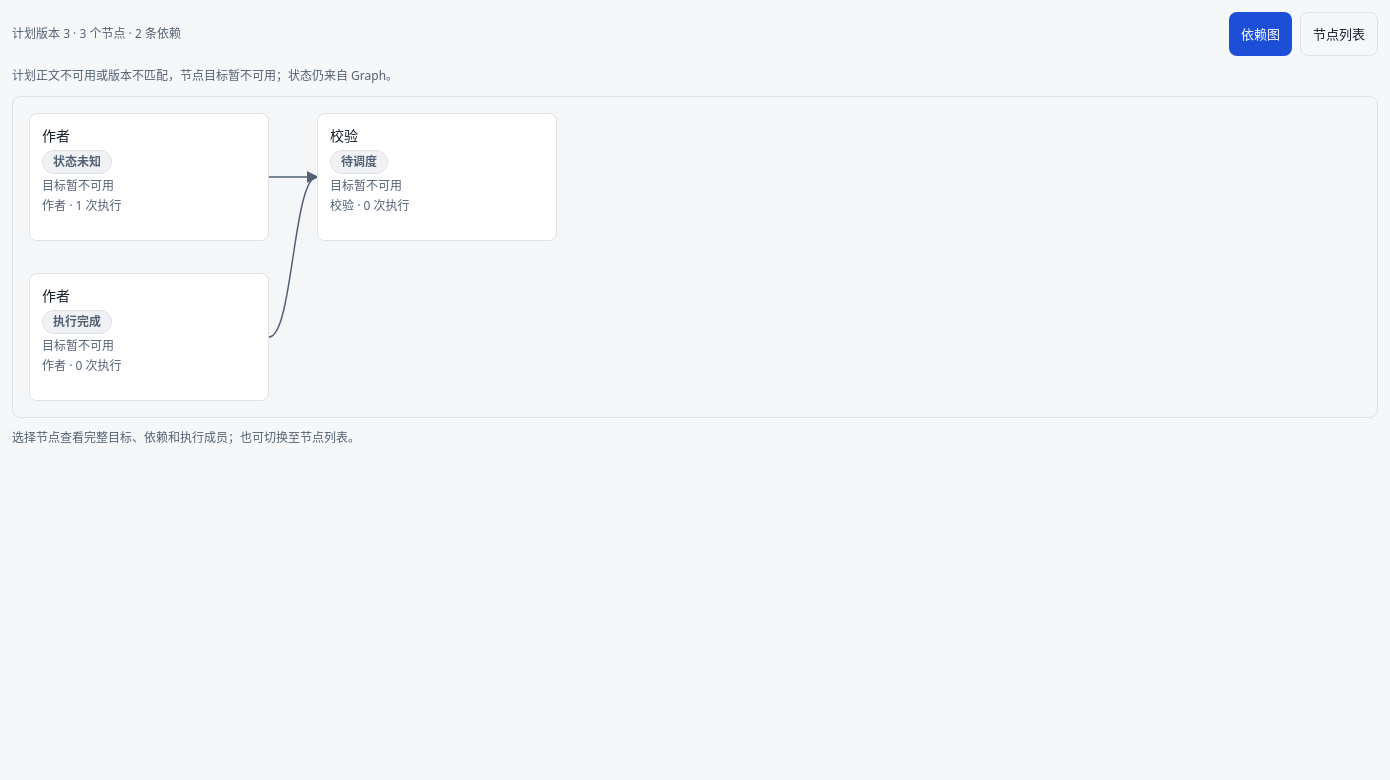
Test: 真实任务图展示 › 计划版本不匹配不拼接目标；Worker跨Task不拼接状态
Click the button with aria-label "查看节点 east，作者，状态未知" at (149, 177), box [29,113,269,241]
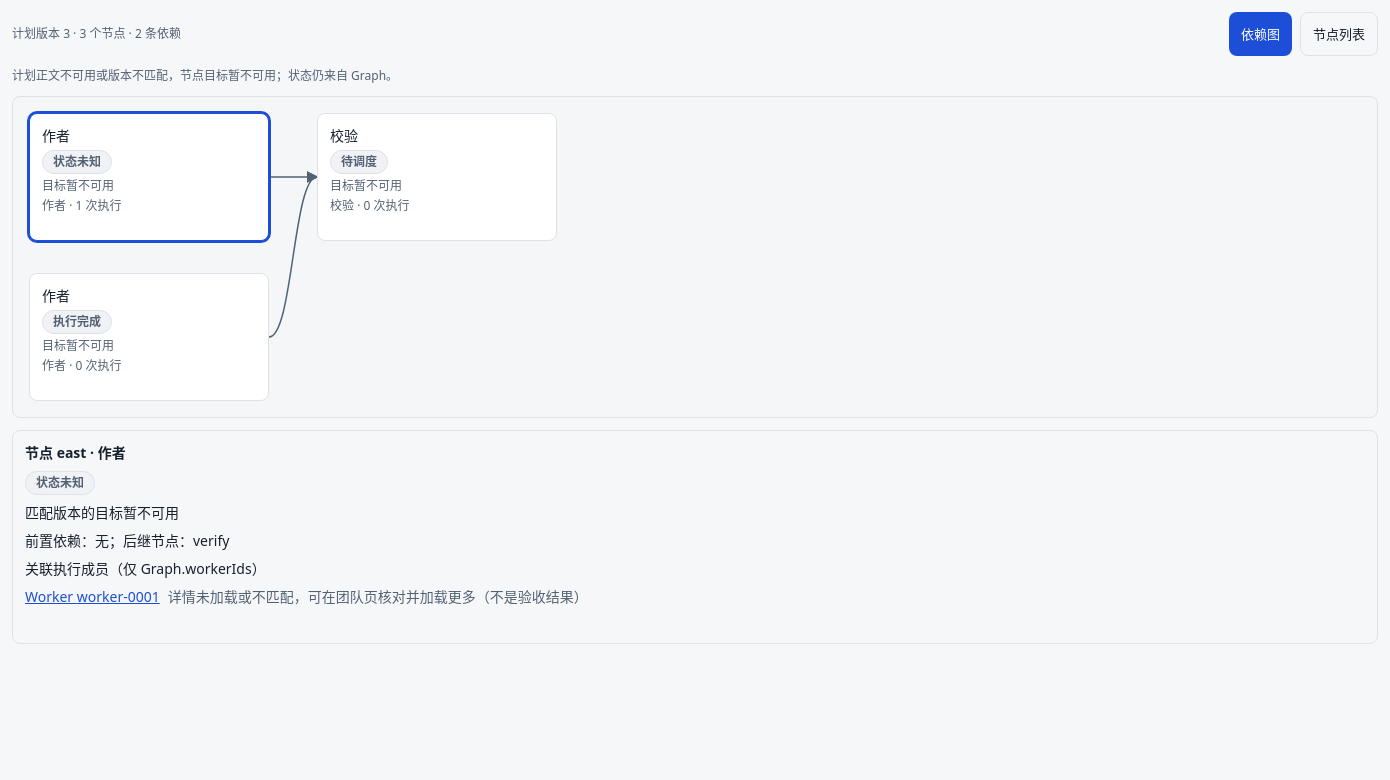
Expected: the element named "节点详情" does not show "completed", [12,430,1378,644]
Expected: the element named "节点详情" shows "详情未加载或不匹配", [168,587,476,606]
